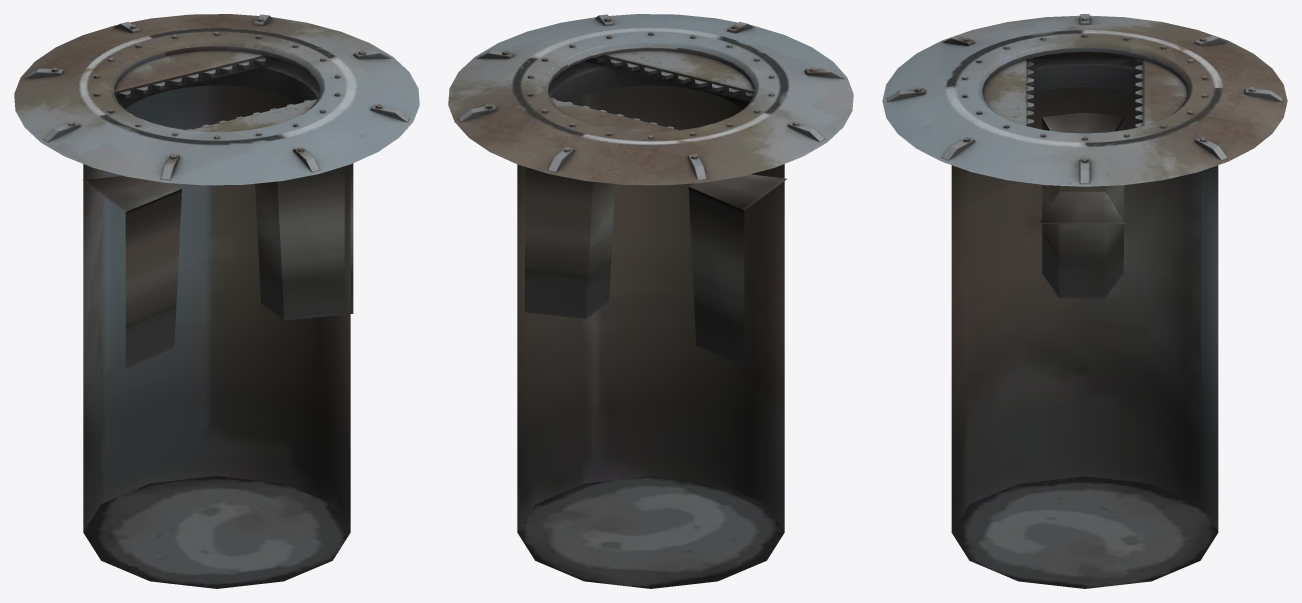
The picture shows the model from 3 angles, left to right: view 1: azimuth 30°, elevation 25°; view 2: azimuth 150°, elevation 25°; view 3: azimuth 270°, elevation 25°; orthographic projection.
Visible parts, largest first — view 1: body0_model0_lod0_mesh0; view 2: body0_model0_lod0_mesh0; view 3: body0_model0_lod0_mesh0.
Part boxes in pixels (x1=…): body0_model0_lod0_mesh0: x1=14, y1=14, x2=419, y2=588; body0_model0_lod0_mesh0: x1=448, y1=14, x2=853, y2=588; body0_model0_lod0_mesh0: x1=882, y1=14, x2=1287, y2=588.
Size of the model in its own units: 200 by 243 by 200.
1 material, 1 textured.
